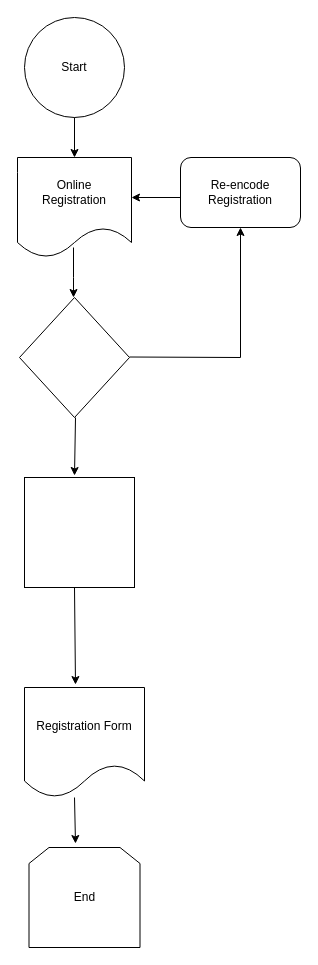
Some shapes in this 318 by 965 pixel diagram are drawn without their labels. Here are the shapes that lost their labels. From the top down, the centre of each, then its label:
At point (74, 357): "assesment".
At point (79, 532): "Payment".
